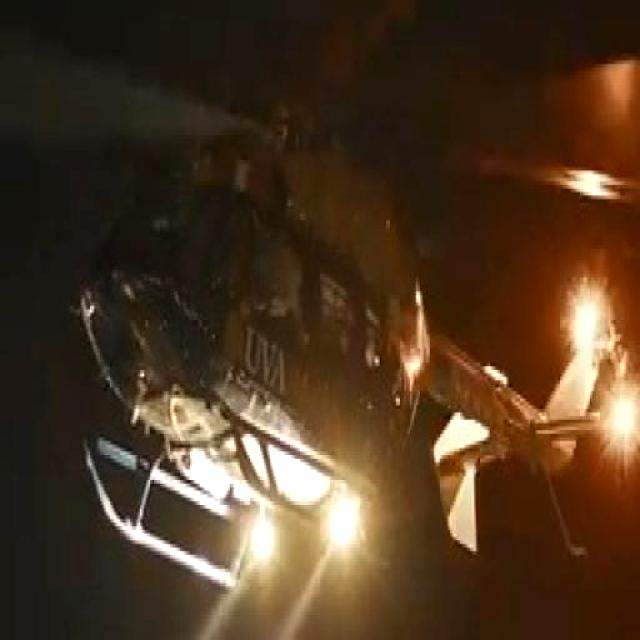drone: (61, 0, 640, 615)
